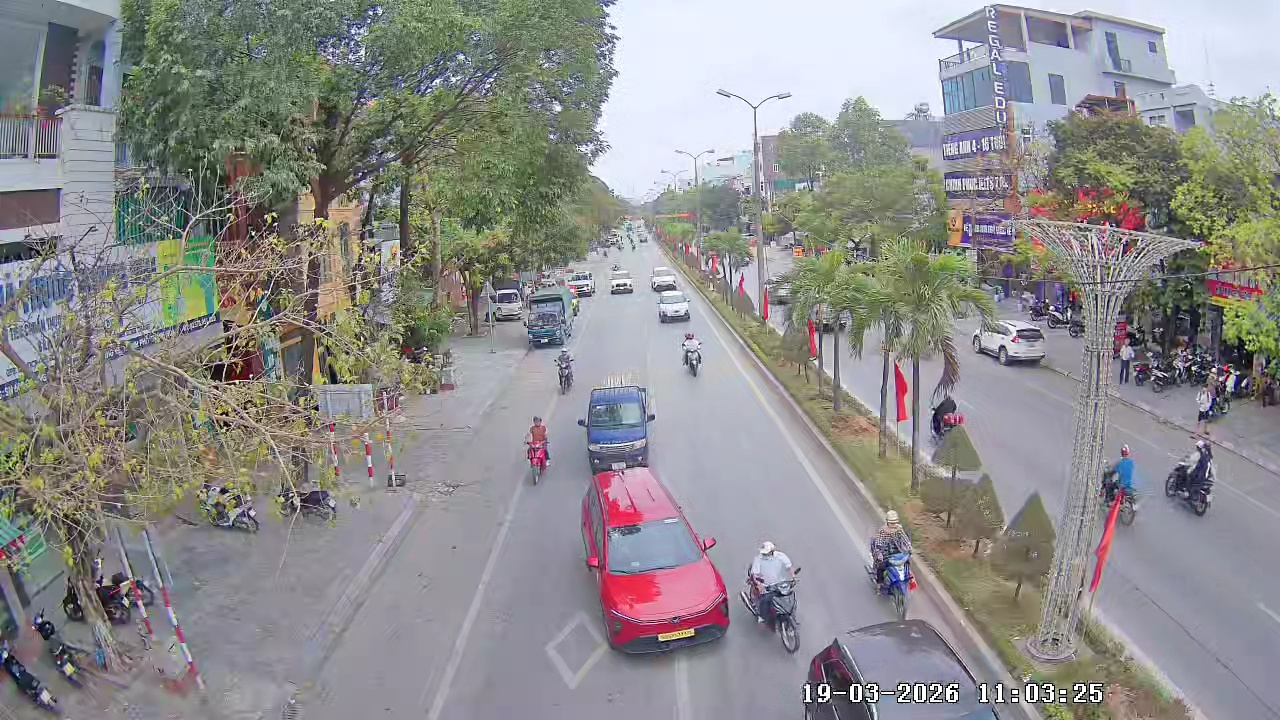car: (582, 465, 730, 655), (799, 621, 1011, 719), (1002, 324, 1048, 367), (972, 324, 1011, 364), (656, 290, 692, 323), (651, 266, 678, 294), (570, 267, 595, 297), (610, 269, 634, 295)
motorbike: (740, 538, 804, 653), (865, 510, 917, 617), (1101, 445, 1141, 527), (1176, 442, 1217, 517), (522, 415, 553, 486), (929, 387, 960, 439), (299, 487, 338, 524), (680, 330, 704, 378), (553, 345, 576, 395)
truck: (577, 379, 657, 473), (523, 279, 579, 349)
